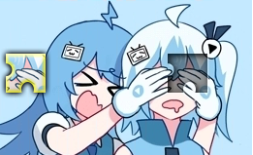gap: (168, 54, 207, 93)
